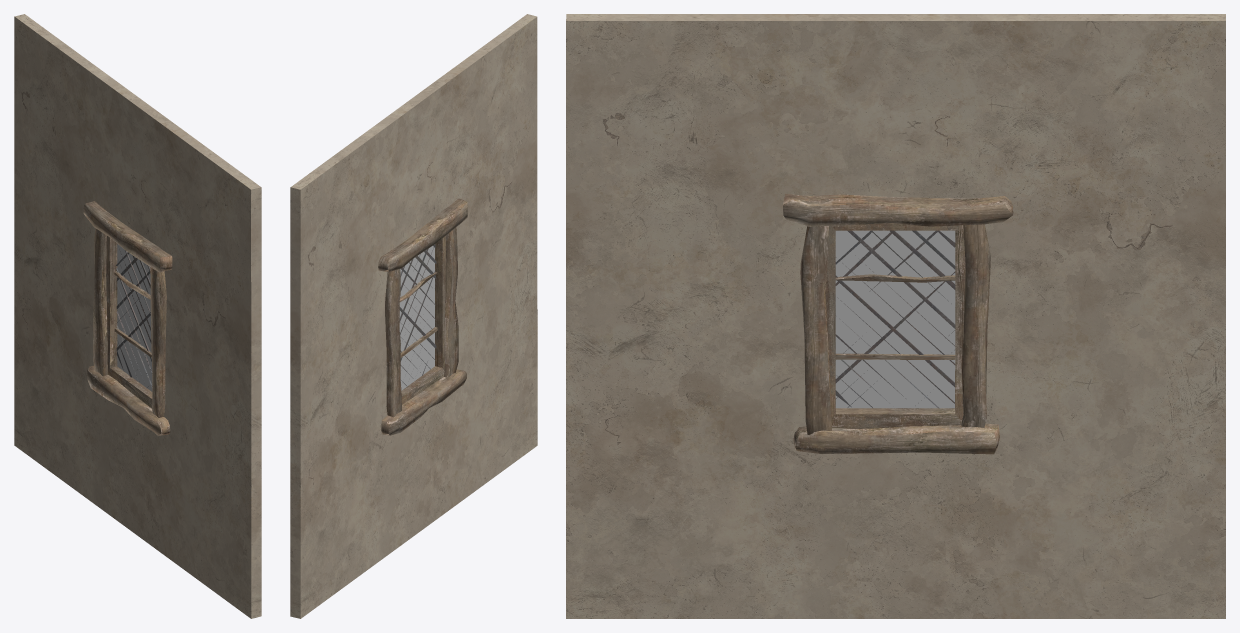
Rendered from SM_Wall_Window_01.fbx.
3 renders of one model, left to right at view 1: azimuth 30°, elevation 25°; view 2: azimuth 150°, elevation 25°; view 3: azimuth 270°, elevation 25°, orthographic. The views are drawn at different scales.
Parts seen in each view (by area): view 1: SM_Wall_Window_01_LOD0; view 2: SM_Wall_Window_01_LOD0; view 3: SM_Wall_Window_01_LOD0.
Boxes of the visible parts, box(x1,y1,x2,y2) form: SM_Wall_Window_01_LOD0: box(14, 14, 261, 618); SM_Wall_Window_01_LOD0: box(290, 14, 537, 618); SM_Wall_Window_01_LOD0: box(566, 14, 1225, 618).
Size of the model in its own units: 38.07 by 400 by 400.
